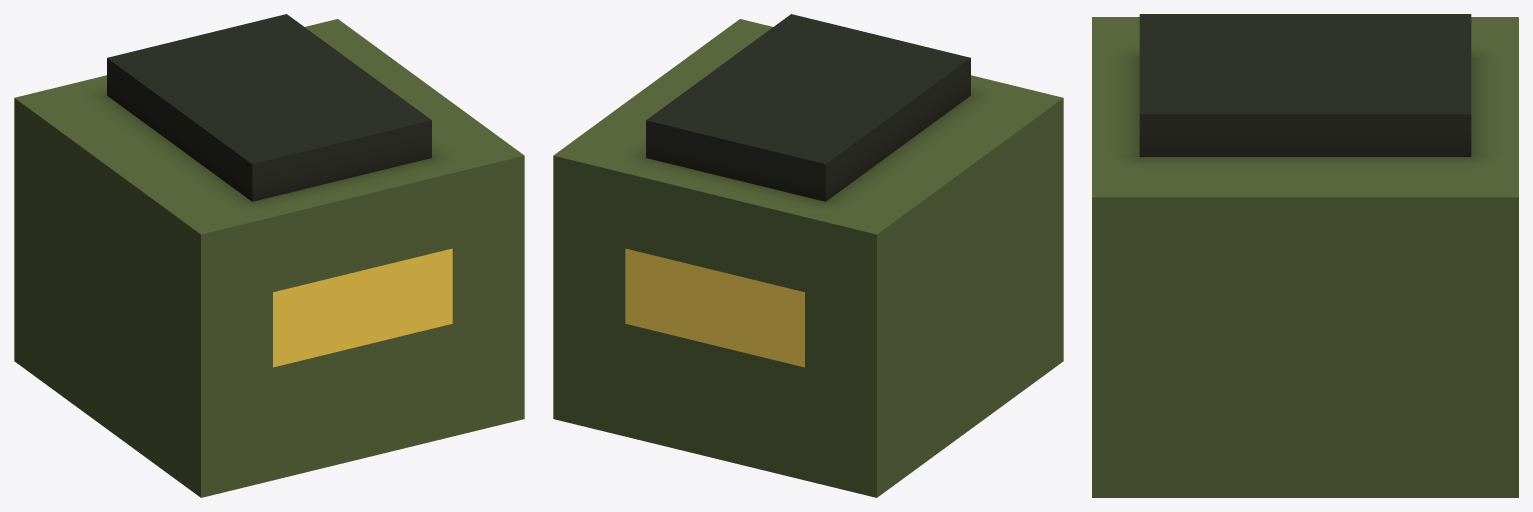
Rendered from ammo.glb.
3 views of the same model, side by side, from view 1: azimuth 30°, elevation 25°; view 2: azimuth 150°, elevation 25°; view 3: azimuth 270°, elevation 25° (orthographic). The views are drawn at different scales.
Visible parts, largest first — view 1: ammo_body; view 2: ammo_body; view 3: ammo_body.
Part boxes in pixels (left/top/right/bottom): ammo_body: left=14, top=14, right=524, bottom=497; ammo_body: left=553, top=14, right=1063, bottom=497; ammo_body: left=1092, top=14, right=1518, bottom=497.
Bounding box in the file's own units: 0.3516 × 0.3125 × 0.3516.
Materials: 1 (1 with a texture image).
